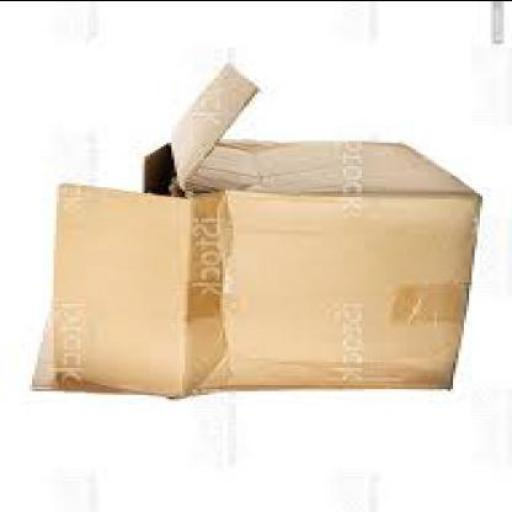cardboard: (27, 56, 480, 396)
